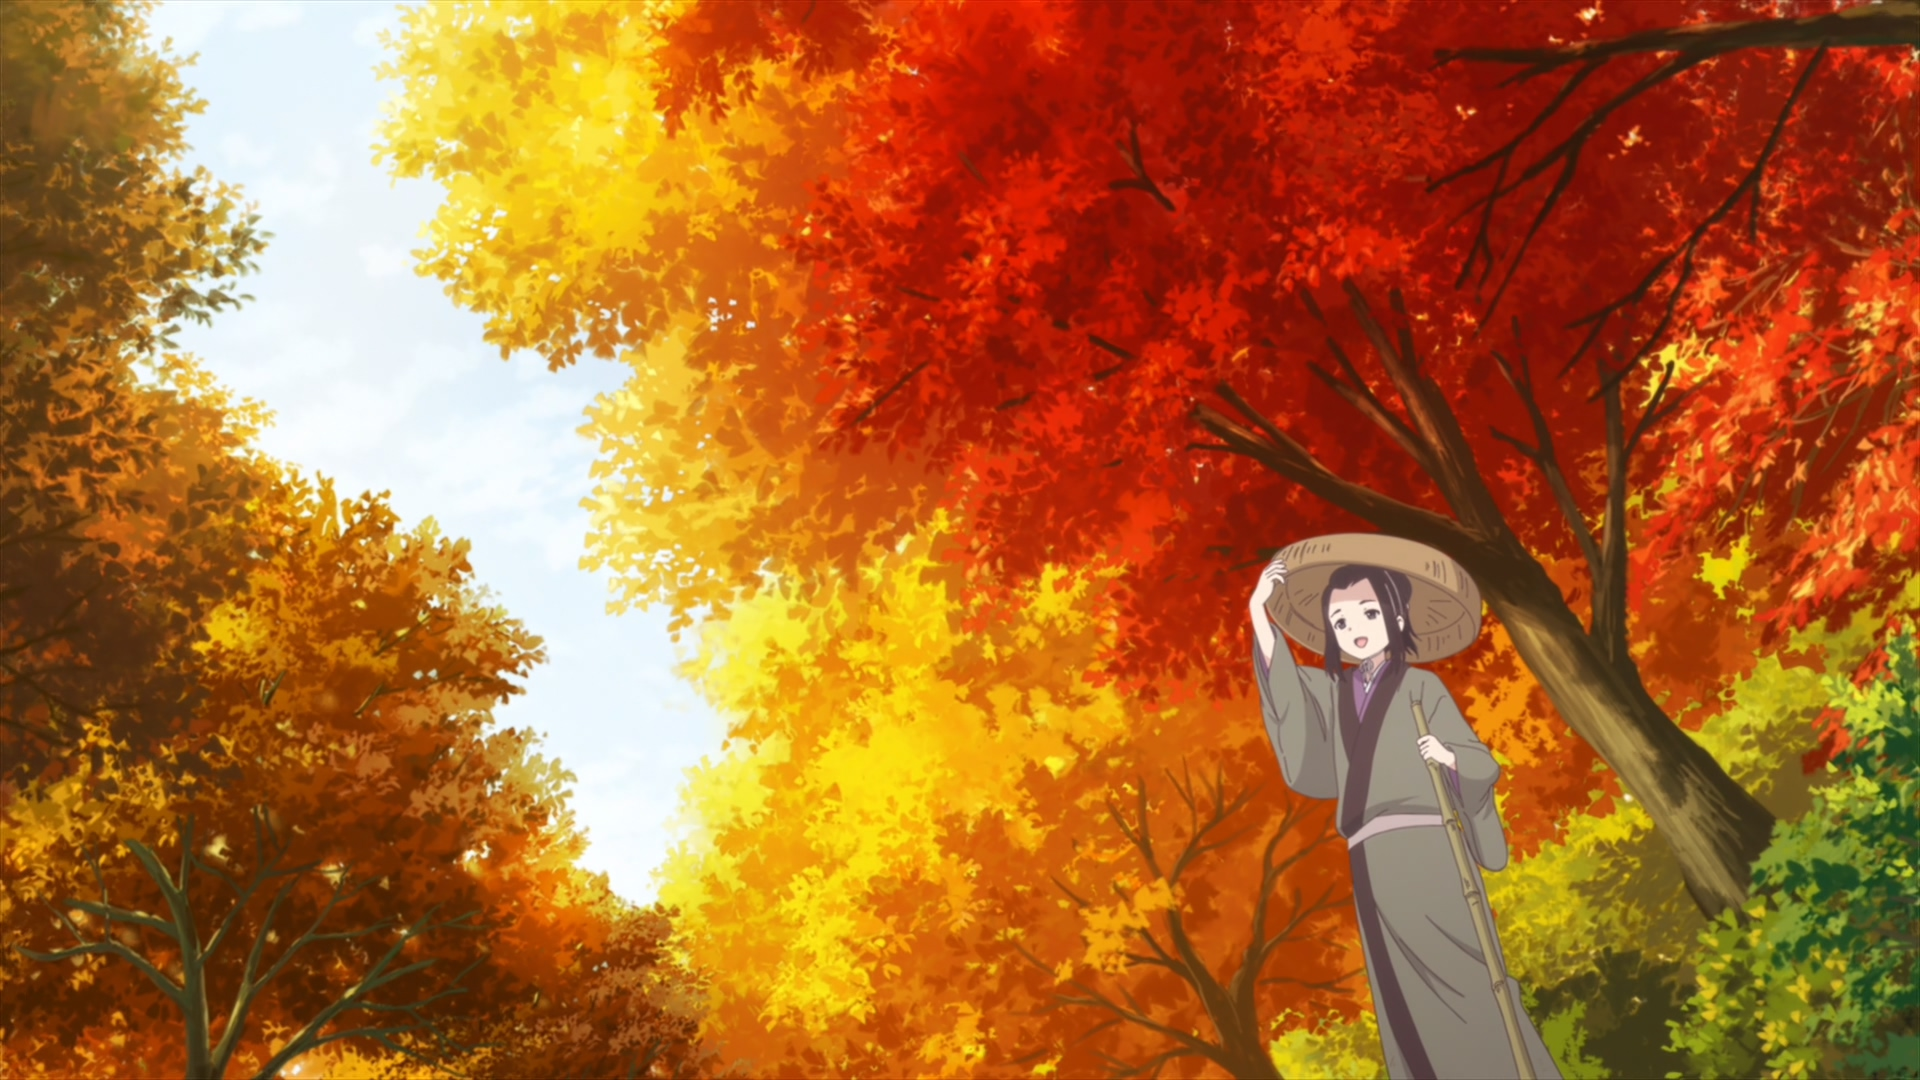其他: (1247, 534, 1567, 1080)
